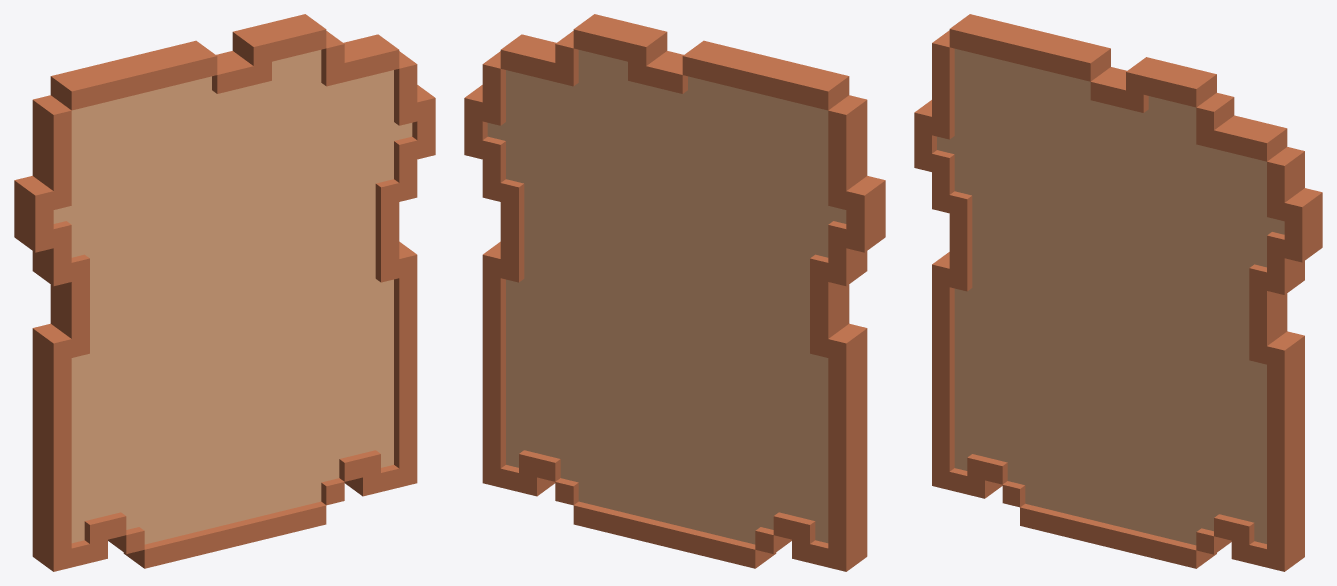
Rendered from Paper.fbx.
The picture shows the model from 3 angles, left to right: view 1: azimuth 30°, elevation 25°; view 2: azimuth 150°, elevation 25°; view 3: azimuth 330°, elevation 25°; orthographic projection. The views are drawn at different scales.
Visible parts, largest first — view 1: generated; view 2: generated; view 3: generated.
Boxes of the visible parts, x1=… form: generated: x1=14, y1=14, x2=435, y2=571; generated: x1=464, y1=14, x2=885, y2=571; generated: x1=914, y1=14, x2=1322, y2=571.
Bounding box in the file's own units: 220 × 260 × 20.
